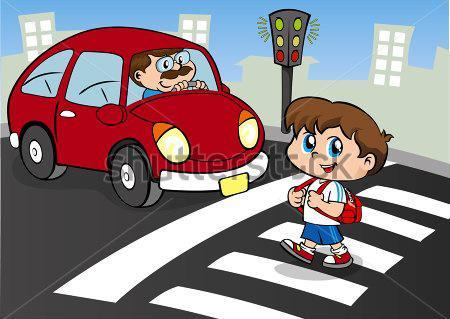car: (7, 24, 270, 209)
person: (277, 94, 389, 269), (124, 44, 211, 102)
